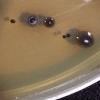black: (78, 28, 95, 49), (64, 25, 78, 44), (40, 15, 54, 28), (26, 15, 38, 26), (18, 11, 30, 22), (8, 17, 17, 26)
